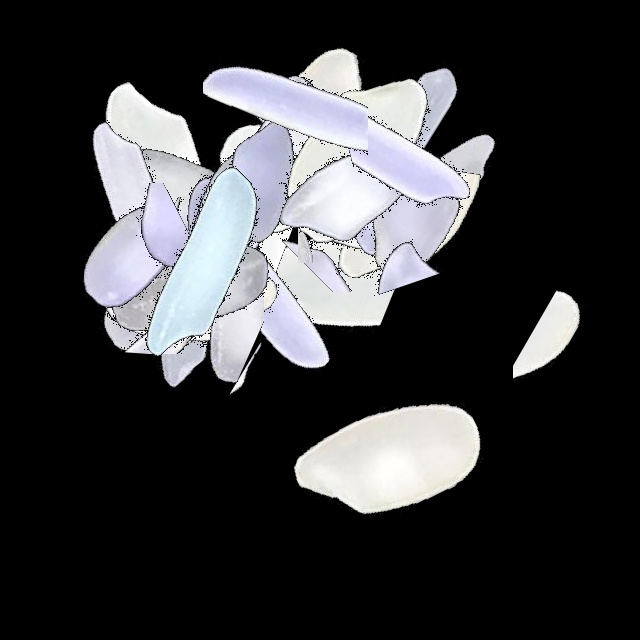Broken: (247, 83, 497, 248), (203, 21, 368, 271), (279, 165, 529, 324), (196, 186, 446, 341), (299, 54, 549, 209), (68, 169, 318, 323), (234, 72, 388, 322), (118, 180, 264, 430), (76, 191, 326, 336), (109, 170, 250, 420), (197, 154, 447, 280), (49, 220, 299, 346), (0, 183, 250, 305), (100, 196, 221, 446), (26, 236, 276, 354), (83, 197, 333, 307), (231, 184, 481, 292), (335, 109, 442, 359), (8, 242, 258, 337), (513, 252, 599, 502), (215, 177, 465, 263), (140, 210, 390, 294), (30, 189, 280, 266), (207, 317, 283, 567)
Full: (244, 48, 494, 298), (309, 57, 559, 307), (56, 181, 306, 431), (60, 112, 310, 362), (29, 43, 279, 293), (137, 164, 387, 414), (55, 69, 305, 319), (96, 108, 346, 358), (180, 18, 430, 268), (182, 66, 432, 316), (101, 90, 351, 340), (31, 186, 281, 436), (0, 69, 250, 319), (252, 67, 502, 317), (285, 94, 535, 344), (60, 169, 310, 419), (173, 23, 423, 273), (140, 58, 390, 308), (74, 159, 324, 409), (284, 4, 534, 254), (40, 168, 290, 418), (0, 133, 250, 383), (235, 32, 485, 282), (223, 63, 473, 313), (72, 141, 322, 391), (265, 337, 515, 587)
